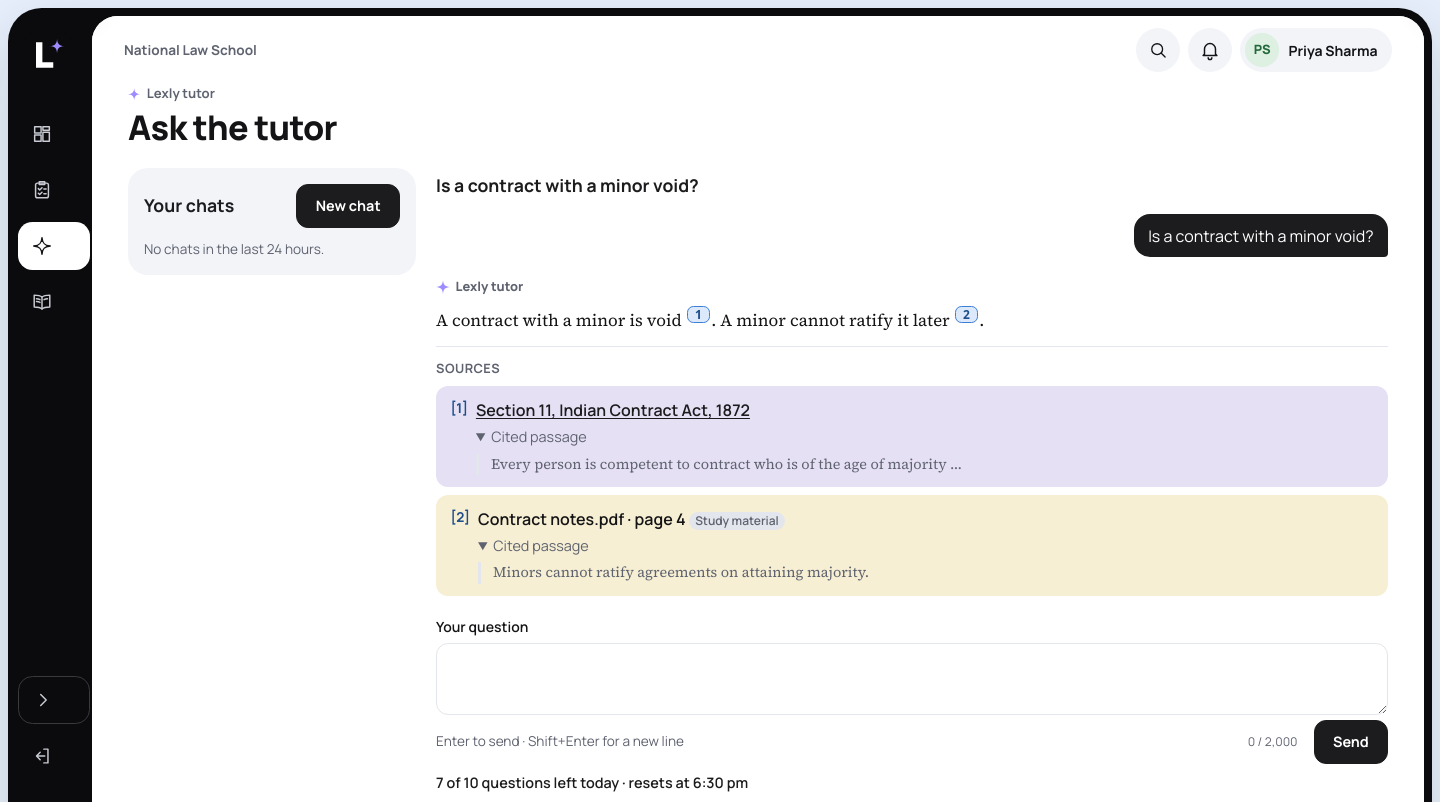
Test case: tutor (F5a.3) › a conversation that expired before sending goes back to a new chat with the question kept
This screenshot has width=1440, height=802.
Expected: the element "Sources" is shown, top-left (436, 346), bottom-right (1388, 596)
Type "And a follow-up?" into the text box labelled "Your question" at (912, 678), box top-left (436, 642), bottom-right (1388, 714)
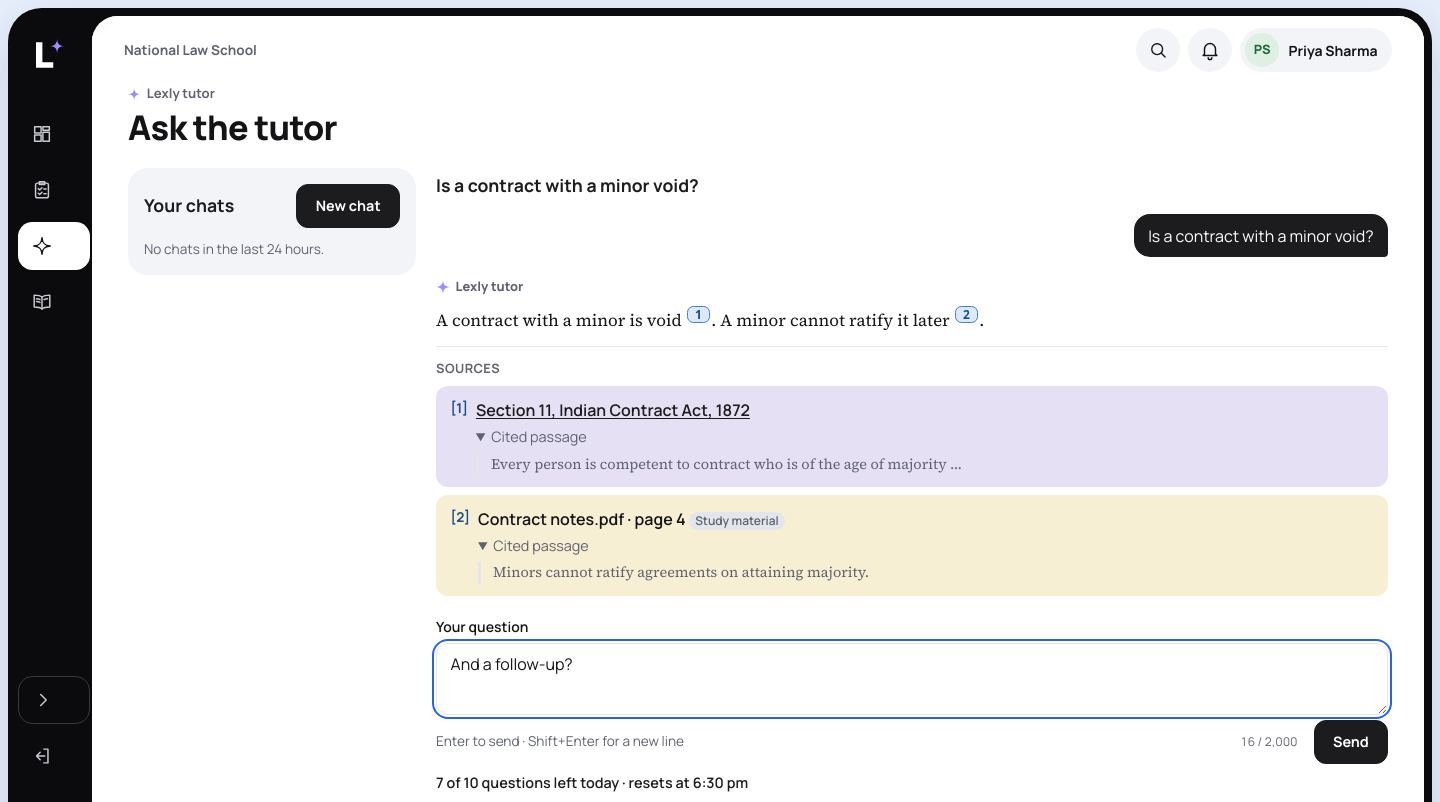
Press Enter
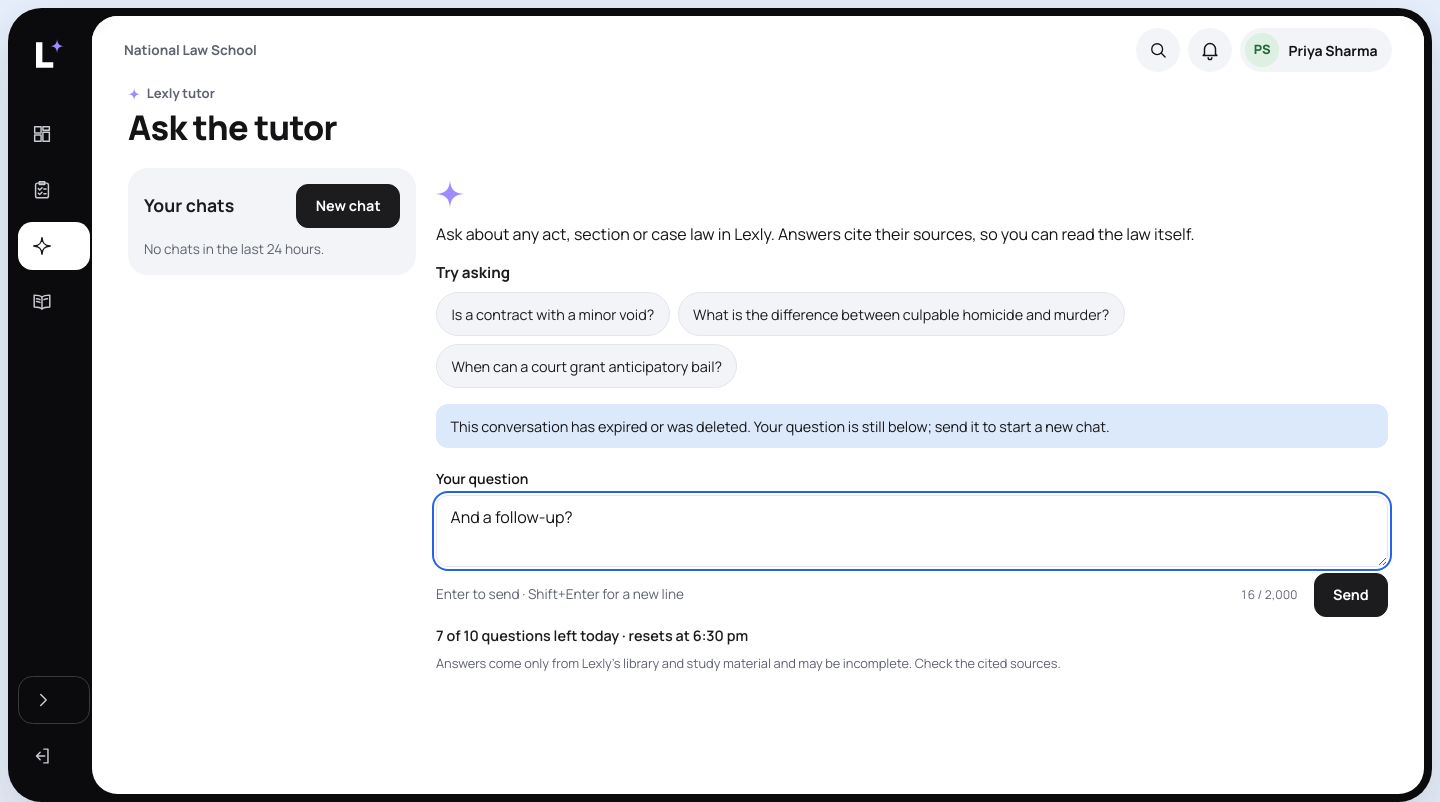
Now the text "This conversation has expired or was deleted. Your question is still below" is shown, box top-left (450, 417), bottom-right (1110, 436)
